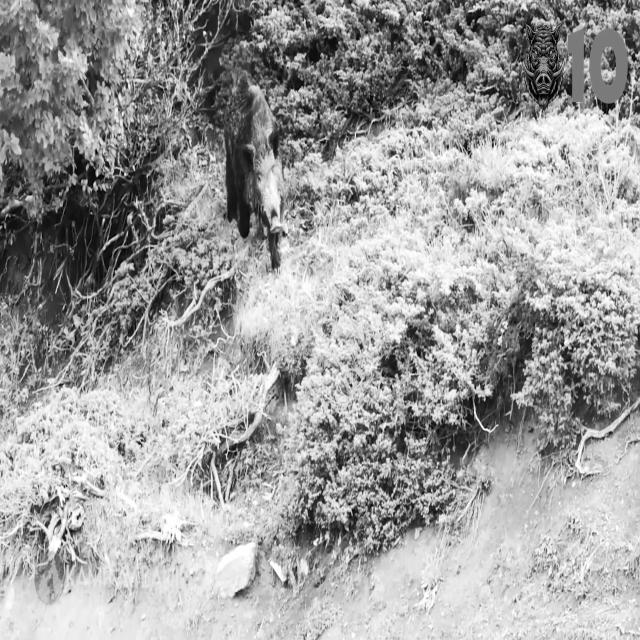boar: (225, 72, 284, 270)
